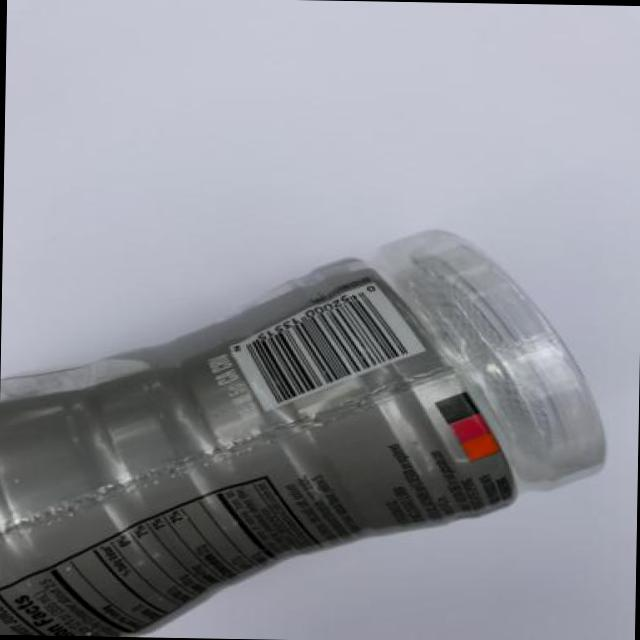plastic: (0, 225, 525, 640)
